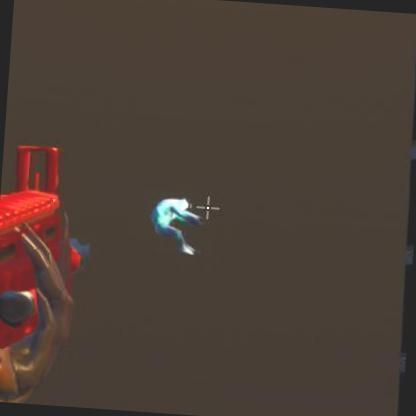person: (148, 195, 207, 256)
